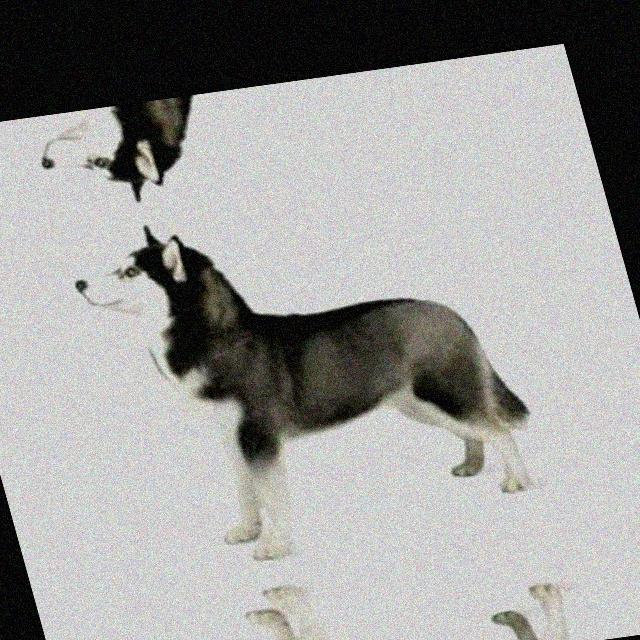dog: (70, 182, 584, 564), (34, 58, 484, 206), (171, 553, 620, 640)
